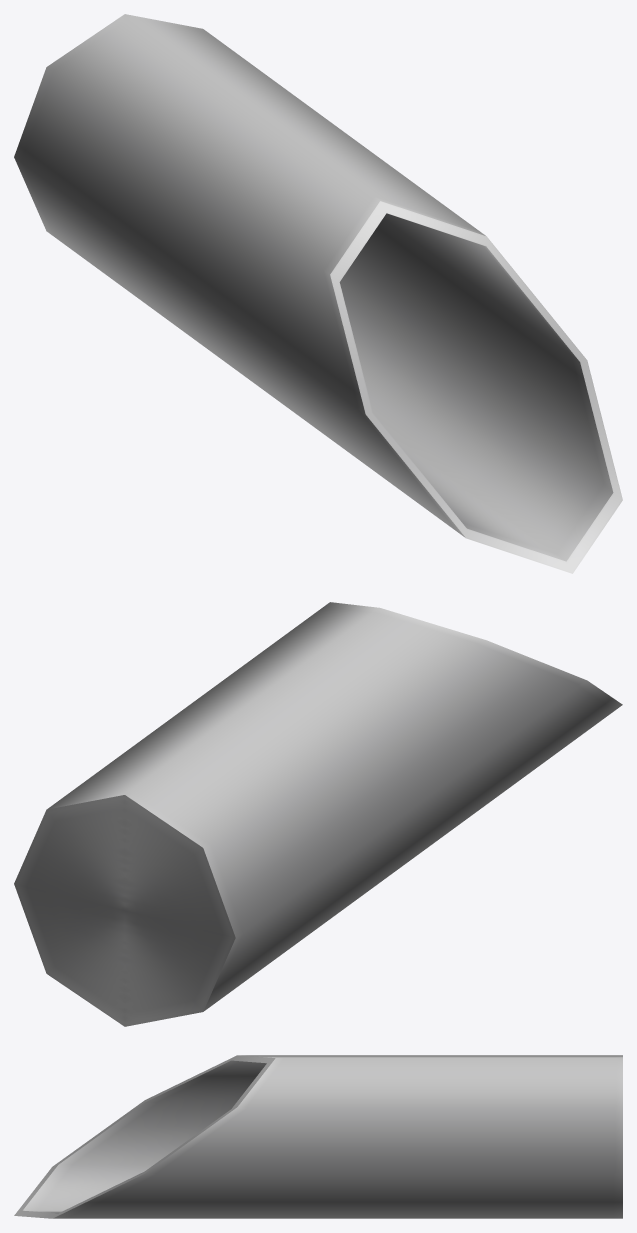
File: jsf_MeasuringCup.fbx
3 views of the same model, one above another, from view 1: azimuth 30°, elevation 25°; view 2: azimuth 150°, elevation 25°; view 3: azimuth 270°, elevation 25° (orthographic). The views are drawn at different scales.
Visible parts, largest first — view 1: jsf_MeasuringCup; view 2: jsf_MeasuringCup; view 3: jsf_MeasuringCup.
Part boxes in pixels (x1,y1,x2,y2): jsf_MeasuringCup: (14,14,622,573); jsf_MeasuringCup: (14,602,622,1026); jsf_MeasuringCup: (14,1055,622,1218).
Bounding box in the file's own units: 3.23 × 3.23 × 11.31.
